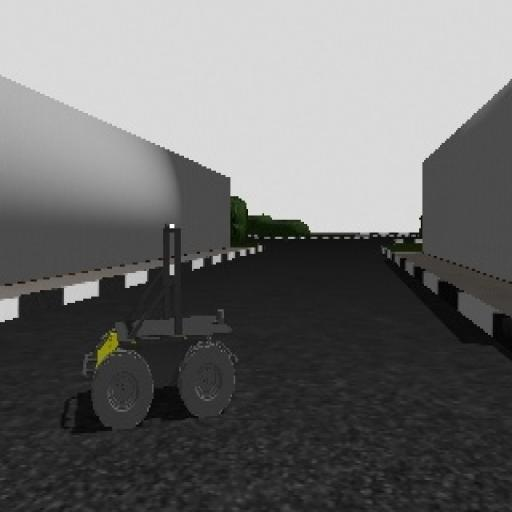huskya200: (64, 213, 266, 443)
